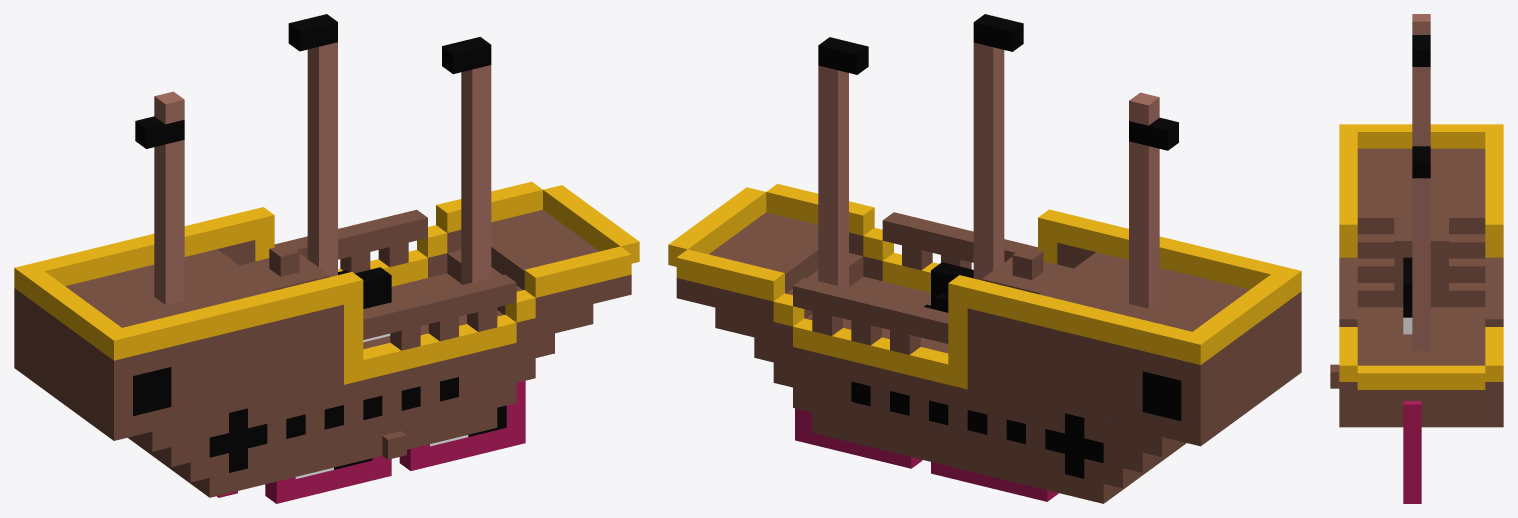
Rendered from pirateship.glb.
3 renders of one model, left to right at view 1: azimuth 30°, elevation 25°; view 2: azimuth 150°, elevation 25°; view 3: azimuth 270°, elevation 25°, orthographic. The views are drawn at different scales.
Parts seen in each view (by area): view 1: base, glasses, rightCannons, v2; view 2: base, leftCannons, glasses, v2; view 3: base, glasses, v2, a1.
Boxes of the visible parts, x1,y1,x2,y2 form: base: (14,14,639,497); glasses: (217,380,525,503); rightCannons: (133,367,458,472); v2: (355,267,391,342); base: (668,14,1301,503); leftCannons: (851,371,1181,478); glasses: (795,408,1058,501); v2: (931,262,973,309); base: (1339,14,1503,427); glasses: (1403,401,1421,503); v2: (1403,257,1412,334); a1: (1330,364,1339,388).
Bounding box in the file's own units: 28 × 23 × 9.5.
13 materials, 13 textured.
